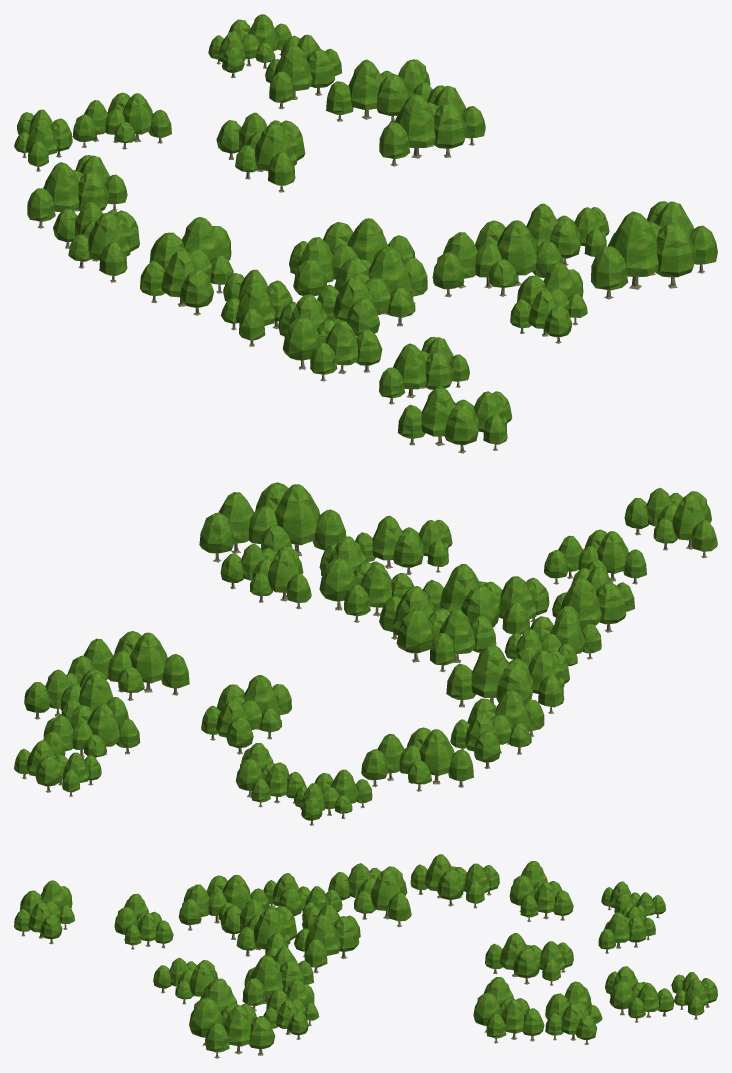
Rendered from konohavill_Tree_Distance_A3.fbx.
3 renders of one model, top to bottom at view 1: azimuth 30°, elevation 25°; view 2: azimuth 150°, elevation 25°; view 3: azimuth 270°, elevation 25°, orthographic. The views are drawn at different scales.
Parts seen in each view (by area): view 1: MERGED_SM_ENV_KNVLLG_Tree_Distance_A3.mo; view 2: MERGED_SM_ENV_KNVLLG_Tree_Distance_A3.mo; view 3: MERGED_SM_ENV_KNVLLG_Tree_Distance_A3.mo.
Boxes of the visible parts, bbox=[...] form: MERGED_SM_ENV_KNVLLG_Tree_Distance_A3.mo: bbox=[14, 14, 717, 453]; MERGED_SM_ENV_KNVLLG_Tree_Distance_A3.mo: bbox=[14, 482, 717, 825]; MERGED_SM_ENV_KNVLLG_Tree_Distance_A3.mo: bbox=[14, 854, 717, 1058].
Size of the model in its own units: 30816 by 4505 by 52016.
